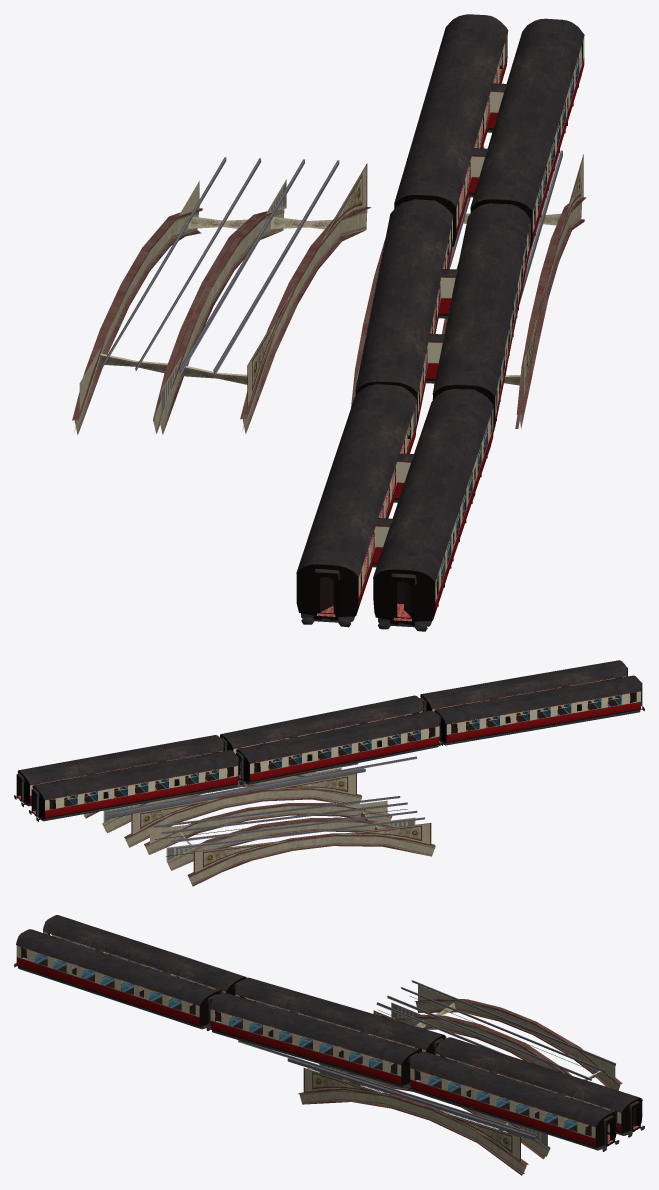
The model's file is FG_Bridge_InstanceTest.gltf.
3 renders of one model, top to bottom at view 1: azimuth 30°, elevation 25°; view 2: azimuth 150°, elevation 25°; view 3: azimuth 270°, elevation 25°, orthographic. The views are drawn at different scales.
Parts seen in each view (by area): view 1: SM_FriarGate_Bridge_Underside_2_StaticMeshComponent0, SM_FriarGate_Carriages_Carriage3_StaticMeshComponent0, SM_FriarGate_Carriages_Carriage6_StaticMeshComponent0, SM_FriarGate_Carriages_Carriage_2922_StaticMeshComponent0, SM_FriarGate_Carriages_Carriage4_StaticMeshComponent0, SM_FriarGate_Carriages_Carriage2_StaticMeshComponent0, SM_FriarGate_Carriages_Carriage5_StaticMeshComponent0; view 2: SM_FriarGate_Bridge_Underside_2_StaticMeshComponent0, SM_FriarGate_Carriages_Carriage4_StaticMeshComponent0, SM_FriarGate_Carriages_Carriage6_StaticMeshComponent0, SM_FriarGate_Carriages_Carriage5_StaticMeshComponent0, SM_FriarGate_Carriages_Carriage_2922_StaticMeshComponent0, SM_FriarGate_Carriages_Carriage2_StaticMeshComponent0, SM_FriarGate_Carriages_Carriage3_StaticMeshComponent0; view 3: SM_FriarGate_Bridge_Underside_2_StaticMeshComponent0, SM_FriarGate_Carriages_Carriage_2922_StaticMeshComponent0, SM_FriarGate_Carriages_Carriage2_StaticMeshComponent0, SM_FriarGate_Carriages_Carriage3_StaticMeshComponent0, SM_FriarGate_Carriages_Carriage4_StaticMeshComponent0, SM_FriarGate_Carriages_Carriage5_StaticMeshComponent0, SM_FriarGate_Carriages_Carriage6_StaticMeshComponent0.
Boxes of the visible parts, x1,y1,x2,y2 form: SM_FriarGate_Bridge_Underside_2_StaticMeshComponent0: [72, 146, 586, 435]; SM_FriarGate_Carriages_Carriage3_StaticMeshComponent0: [373, 389, 493, 631]; SM_FriarGate_Carriages_Carriage6_StaticMeshComponent0: [296, 384, 417, 627]; SM_FriarGate_Carriages_Carriage_2922_StaticMeshComponent0: [470, 18, 584, 250]; SM_FriarGate_Carriages_Carriage4_StaticMeshComponent0: [394, 14, 508, 247]; SM_FriarGate_Carriages_Carriage2_StaticMeshComponent0: [432, 203, 530, 432]; SM_FriarGate_Carriages_Carriage5_StaticMeshComponent0: [355, 200, 453, 428]; SM_FriarGate_Bridge_Underside_2_StaticMeshComponent0: [84, 756, 435, 886]; SM_FriarGate_Carriages_Carriage4_StaticMeshComponent0: [29, 750, 241, 821]; SM_FriarGate_Carriages_Carriage6_StaticMeshComponent0: [434, 675, 644, 745]; SM_FriarGate_Carriages_Carriage5_StaticMeshComponent0: [236, 710, 443, 785]; SM_FriarGate_Carriages_Carriage_2922_StaticMeshComponent0: [14, 735, 224, 806]; SM_FriarGate_Carriages_Carriage2_StaticMeshComponent0: [219, 695, 423, 756]; SM_FriarGate_Carriages_Carriage3_StaticMeshComponent0: [419, 660, 627, 712]; SM_FriarGate_Bridge_Underside_2_StaticMeshComponent0: [238, 980, 622, 1175]; SM_FriarGate_Carriages_Carriage_2922_StaticMeshComponent0: [407, 1051, 619, 1151]; SM_FriarGate_Carriages_Carriage2_StaticMeshComponent0: [207, 992, 420, 1089]; SM_FriarGate_Carriages_Carriage3_StaticMeshComponent0: [14, 929, 220, 1030]; SM_FriarGate_Carriages_Carriage4_StaticMeshComponent0: [435, 1037, 644, 1137]; SM_FriarGate_Carriages_Carriage5_StaticMeshComponent0: [235, 977, 446, 1057]; SM_FriarGate_Carriages_Carriage6_StaticMeshComponent0: [43, 915, 246, 998].
Size of the model in its own units: 39.73 by 6.64 by 50.88.
Materials: 3 (3 with a texture image).
